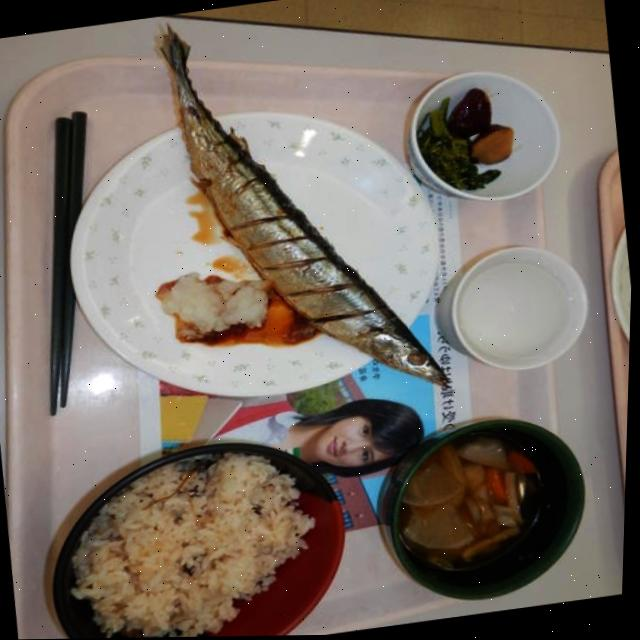熟制海鲜: (39, 0, 471, 456)
米饭主食: (29, 428, 369, 639)
蔬菜料理: (370, 397, 621, 627)
